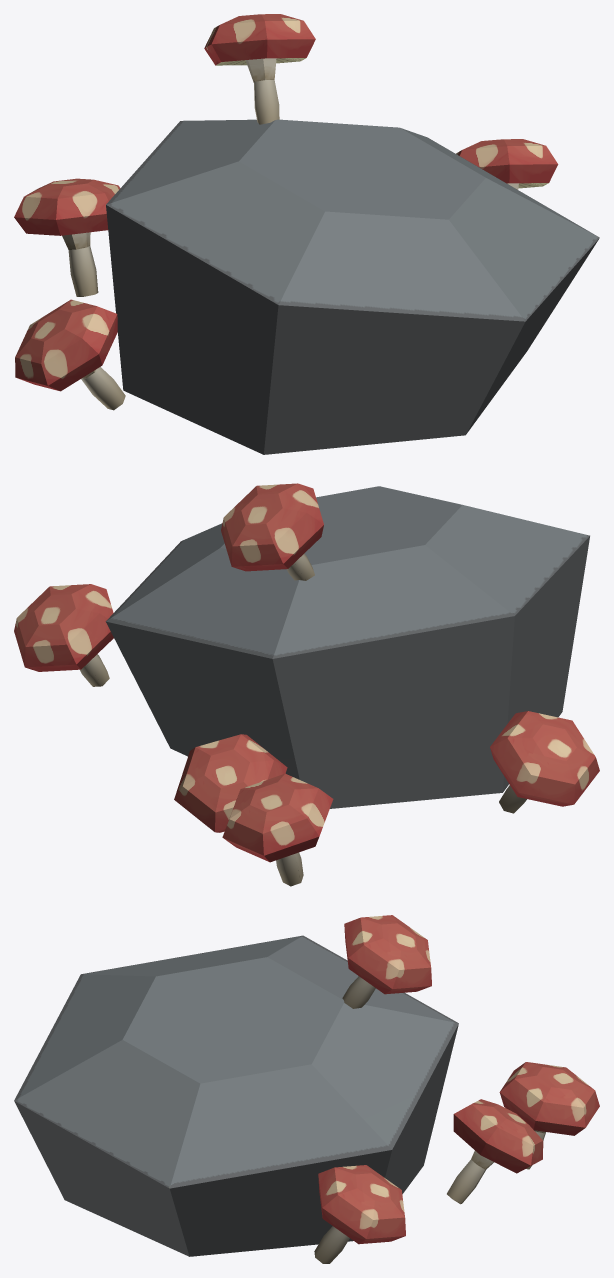
Rendered from stone and mushrooms.fbx.
3 views of the same model, one above another, from view 1: azimuth 30°, elevation 25°; view 2: azimuth 150°, elevation 25°; view 3: azimuth 270°, elevation 25° (orthographic). The views are drawn at different scales.
Visible parts, largest first — view 1: SM_DesireLines.058; view 2: SM_DesireLines.058; view 3: SM_DesireLines.058.
Boxes of the visible parts, left/top/right/bottom form: SM_DesireLines.058: left=14, top=14, right=599, bottom=454; SM_DesireLines.058: left=14, top=483, right=599, bottom=886; SM_DesireLines.058: left=14, top=915, right=599, bottom=1263.
Size of the model in its own units: 1206 by 668 by 1235.
Materials: 1 (1 with a texture image).
